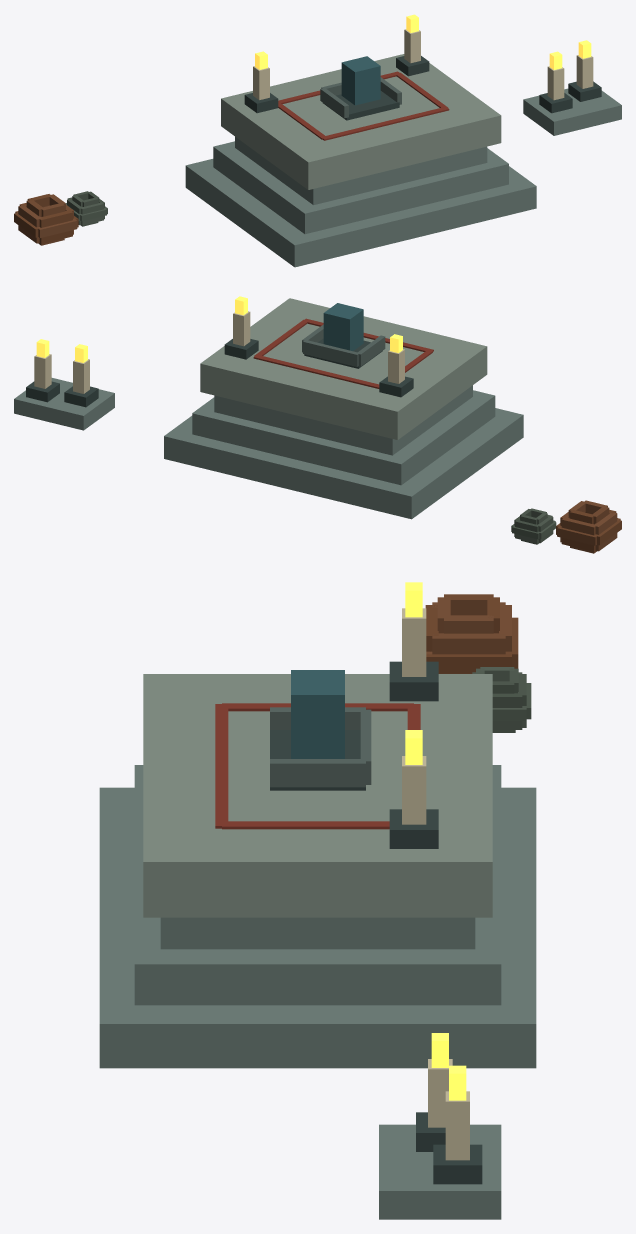
Rendered from B26_altar.glb.
3 views of the same model, one above another, from view 1: azimuth 30°, elevation 25°; view 2: azimuth 150°, elevation 25°; view 3: azimuth 270°, elevation 25° (orthographic). The views are drawn at different scales.
Visible parts, largest first — view 1: B26_altar__main_station_AltarSteps_stone, B26_altar__main_station_AltarTop_stonelight, B26_altar__offering_pots_reuse_Prop_Pottery_NE, B26_altar__spent_wax_CandleStone_stone, B26_altar__main_station_Offering_blue, B26_altar__main_station_AltarChannel_red, B26_altar__spent_wax_Wax_bone, B26_altar__main_station_Wax_bone, B26_altar__main_station_CandleBase_iron, B26_altar__spent_wax_CandleBase_iron, B26_altar__main_station_TrayRim_edge, B26_altar__main_station_Tray_iron (+2 smaller); view 2: B26_altar__main_station_AltarSteps_stone, B26_altar__main_station_AltarTop_stonelight, B26_altar__offering_pots_reuse_Prop_Pottery_NE, B26_altar__spent_wax_CandleStone_stone, B26_altar__main_station_Offering_blue, B26_altar__main_station_AltarChannel_red, B26_altar__main_station_TrayRim_edge, B26_altar__spent_wax_Wax_bone, B26_altar__main_station_Wax_bone, B26_altar__main_station_CandleBase_iron, B26_altar__spent_wax_CandleBase_iron, B26_altar__spent_wax_Flame_amber (+1 smaller); view 3: B26_altar__main_station_AltarSteps_stone, B26_altar__main_station_AltarTop_stonelight, B26_altar__offering_pots_reuse_Prop_Pottery_NE, B26_altar__spent_wax_CandleStone_stone, B26_altar__main_station_Offering_blue, B26_altar__main_station_AltarChannel_red, B26_altar__main_station_TrayRim_edge, B26_altar__main_station_CandleBase_iron, B26_altar__main_station_Wax_bone, B26_altar__spent_wax_Wax_bone, B26_altar__spent_wax_CandleBase_iron, B26_altar__main_station_Tray_iron (+2 smaller).
Part boxes in pixels (box(x1,y1,x2,y2)): B26_altar__main_station_AltarSteps_stone: box(185, 137, 536, 267); B26_altar__main_station_AltarTop_stonelight: box(221, 54, 501, 189); B26_altar__offering_pots_reuse_Prop_Pottery_NE: box(14, 191, 107, 245); B26_altar__spent_wax_CandleStone_stone: box(523, 88, 621, 135); B26_altar__main_station_Offering_blue: box(341, 56, 380, 105); B26_altar__main_station_AltarChannel_red: box(278, 71, 449, 140); B26_altar__spent_wax_Wax_bone: box(547, 55, 593, 100); B26_altar__main_station_Wax_bone: box(253, 29, 420, 100); B26_altar__main_station_CandleBase_iron: box(244, 56, 429, 113); B26_altar__spent_wax_CandleBase_iron: box(539, 81, 601, 113); B26_altar__main_station_TrayRim_edge: box(320, 77, 401, 118); B26_altar__main_station_Tray_iron: box(323, 91, 399, 120); B26_altar__main_station_AltarSteps_stone: box(164, 385, 523, 519); B26_altar__main_station_AltarTop_stonelight: box(200, 298, 487, 439); B26_altar__offering_pots_reuse_Prop_Pottery_NE: box(511, 500, 621, 553); B26_altar__spent_wax_CandleStone_stone: box(14, 378, 114, 430); B26_altar__main_station_Offering_blue: box(323, 303, 363, 351); B26_altar__main_station_AltarChannel_red: box(253, 318, 433, 388); B26_altar__main_station_TrayRim_edge: box(302, 324, 385, 366); B26_altar__spent_wax_Wax_bone: box(34, 354, 89, 393); B26_altar__main_station_Wax_bone: box(233, 311, 404, 383); B26_altar__main_station_CandleBase_iron: box(224, 339, 413, 397); B26_altar__spent_wax_CandleBase_iron: box(26, 381, 98, 407); B26_altar__spent_wax_Flame_amber: box(36, 339, 87, 362); B26_altar__main_station_AltarSteps_stone: box(99, 765, 536, 1068); B26_altar__main_station_AltarTop_stonelight: box(143, 674, 492, 917); B26_altar__offering_pots_reuse_Prop_Pottery_NE: box(425, 594, 531, 732); B26_altar__spent_wax_CandleStone_stone: box(379, 1124, 501, 1219); B26_altar__main_station_Offering_blue: box(291, 670, 344, 758); B26_altar__main_station_AltarChannel_red: box(215, 703, 420, 829); B26_altar__main_station_TrayRim_edge: box(270, 707, 371, 787); B26_altar__main_station_CandleBase_iron: box(389, 661, 438, 848); B26_altar__main_station_Wax_bone: box(402, 608, 426, 824); B26_altar__spent_wax_Wax_bone: box(428, 1059, 469, 1160); B26_altar__spent_wax_CandleBase_iron: box(416, 1112, 482, 1184); B26_altar__main_station_Tray_iron: box(270, 730, 365, 790).
Size of the model in its own units: 7.6 by 1.83 by 2.5.
